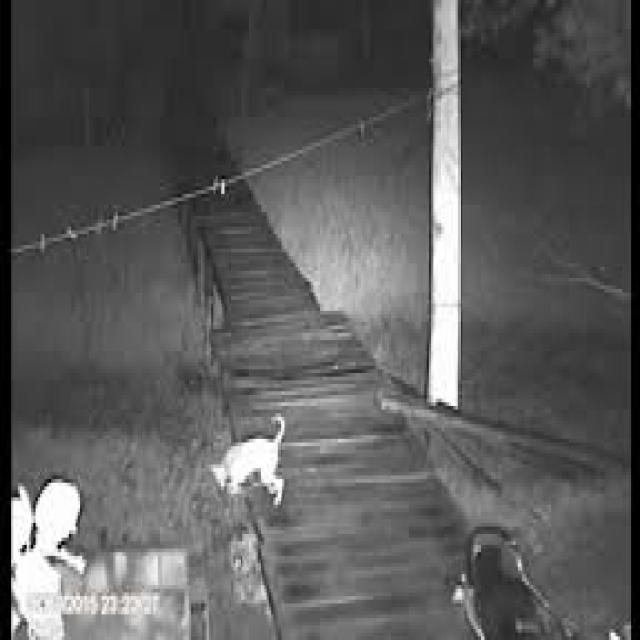Jaguar: (211, 414, 287, 508)
